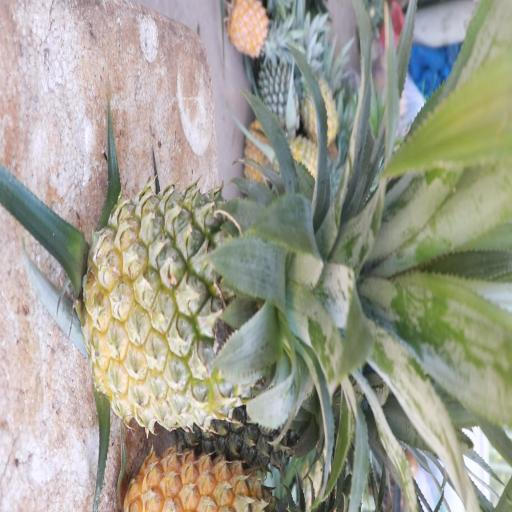------------------------------: (86, 191, 344, 424)
Pineapple - v8 v1: (296, 38, 338, 140), (224, 0, 280, 61)
